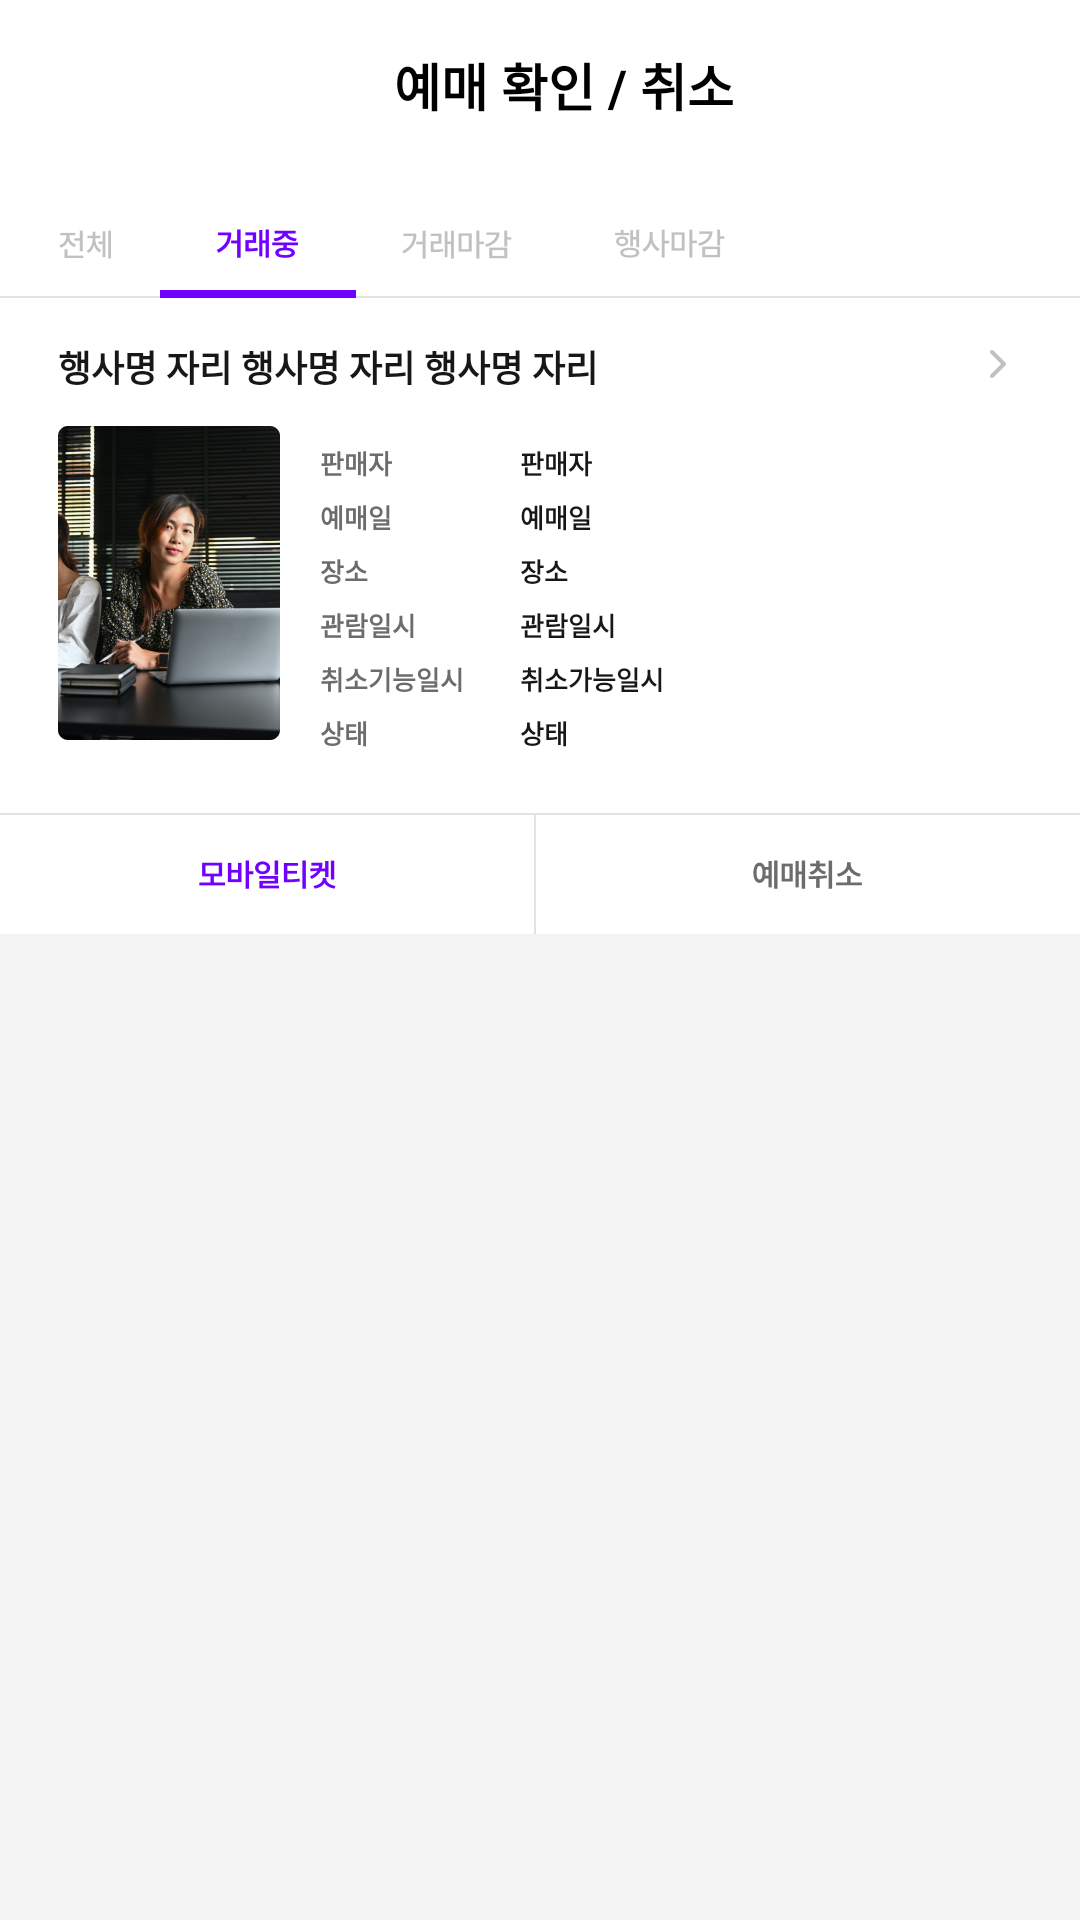

Screen size 1080x1920. Icon name, then its box in pixels as box=[x1, y1, x2, y2]:
right: box=[990, 350, 1006, 378]
